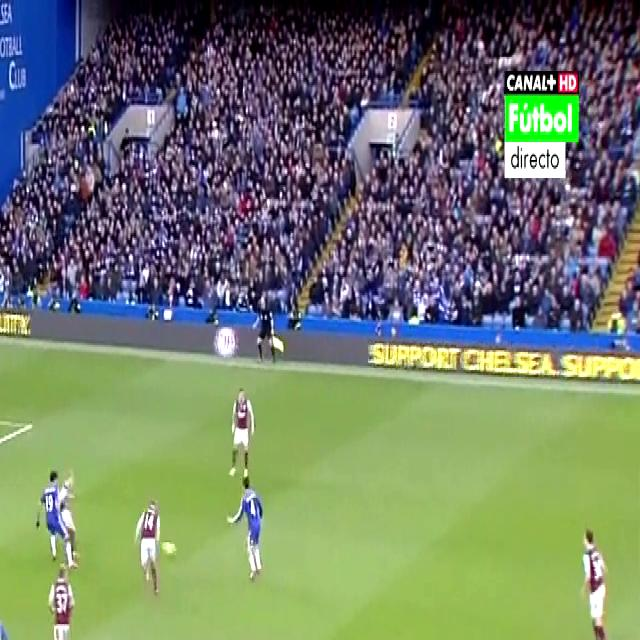ball: (157, 531, 182, 561)
referee: (249, 270, 288, 374)
soccer-player: (220, 472, 273, 585), (570, 512, 616, 640), (129, 485, 173, 605), (38, 459, 72, 572), (223, 379, 256, 489), (41, 562, 77, 640), (0, 581, 17, 640)
